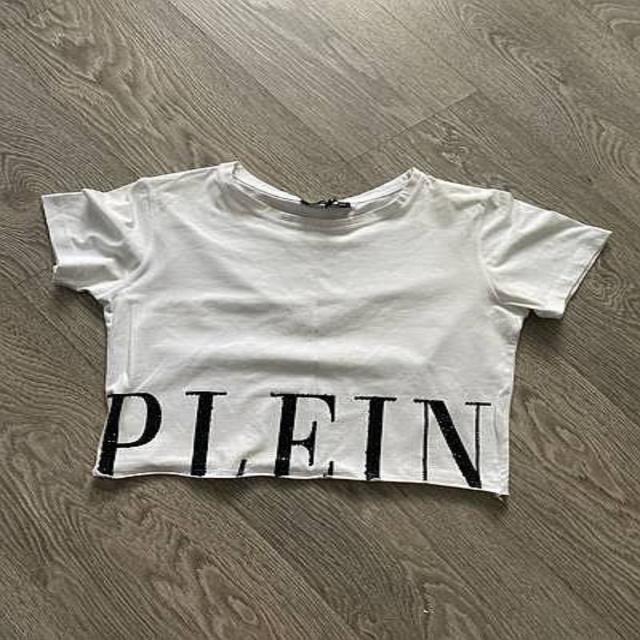T_SHIRT: (34, 159, 617, 507)
